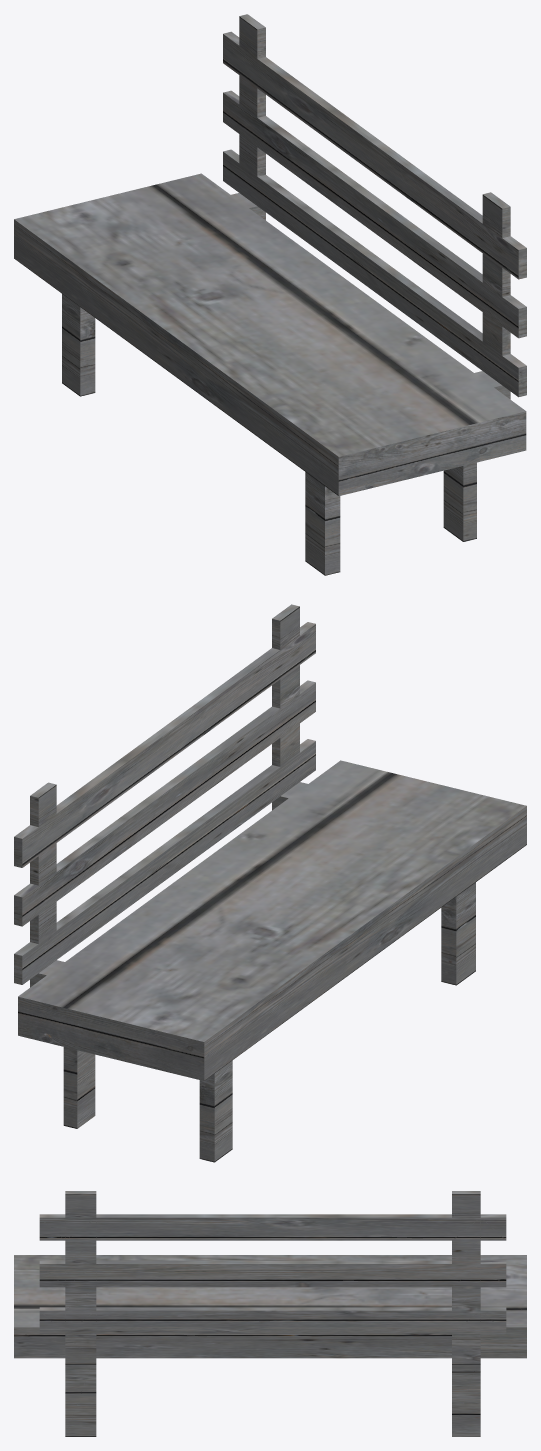
File: Bench.fbx
3 views of the same model, one above another, from view 1: azimuth 30°, elevation 25°; view 2: azimuth 150°, elevation 25°; view 3: azimuth 270°, elevation 25° (orthographic). The views are drawn at different scales.
Visible parts, largest first — view 1: Cube; view 2: Cube; view 3: Cube.
Boxes of the visible parts, x1,y1,x2,y2 form: Cube: (14, 14, 526, 575); Cube: (14, 604, 526, 1162); Cube: (14, 1191, 526, 1436).
Size of the model in its own units: 218 by 330 by 600.
1 material, 1 textured.
